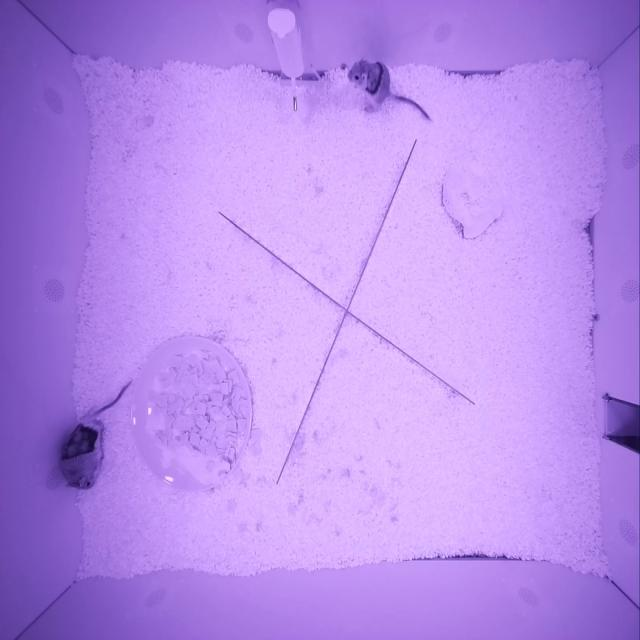adult_back: (60, 417, 102, 491)
adult_front: (348, 60, 388, 102)
